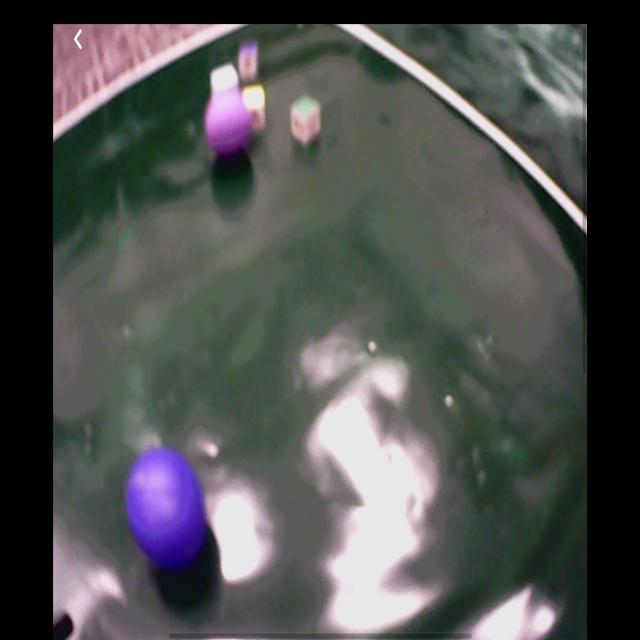ball: (125, 446, 207, 571), (205, 89, 252, 158)
